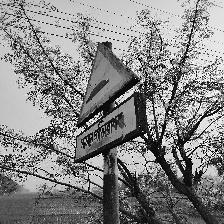Speed-breaker: (75, 42, 144, 163)
